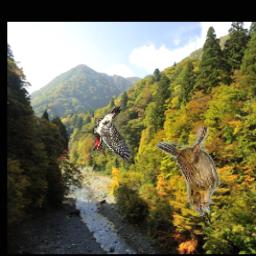Sparrow: (156, 127, 220, 217)
Woodpecker: (75, 106, 132, 163)
